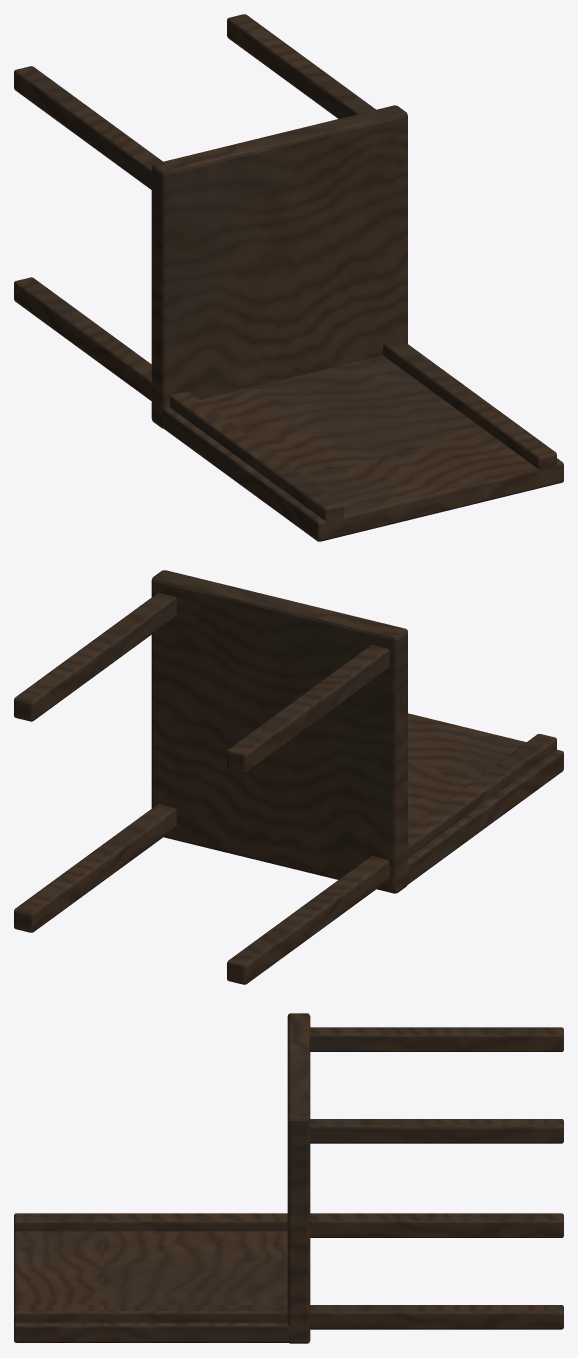
The model's file is D02_overturned_chair_v1.glb.
The picture shows the model from 3 angles, top to bottom: view 1: azimuth 30°, elevation 25°; view 2: azimuth 150°, elevation 25°; view 3: azimuth 270°, elevation 25°; orthographic projection. The views are drawn at different scales.
Parts seen in each view (by area): view 1: D02_overturned_chair_v1; view 2: D02_overturned_chair_v1; view 3: D02_overturned_chair_v1.
Part boxes in pixels (x1,y1,x2,y2): D02_overturned_chair_v1: (14, 14, 563, 541); D02_overturned_chair_v1: (14, 570, 563, 984); D02_overturned_chair_v1: (14, 1013, 563, 1343).
Size of the model in its own units: 0.4104 by 0.4104 by 0.9.
Materials: 1 (1 with a texture image).
